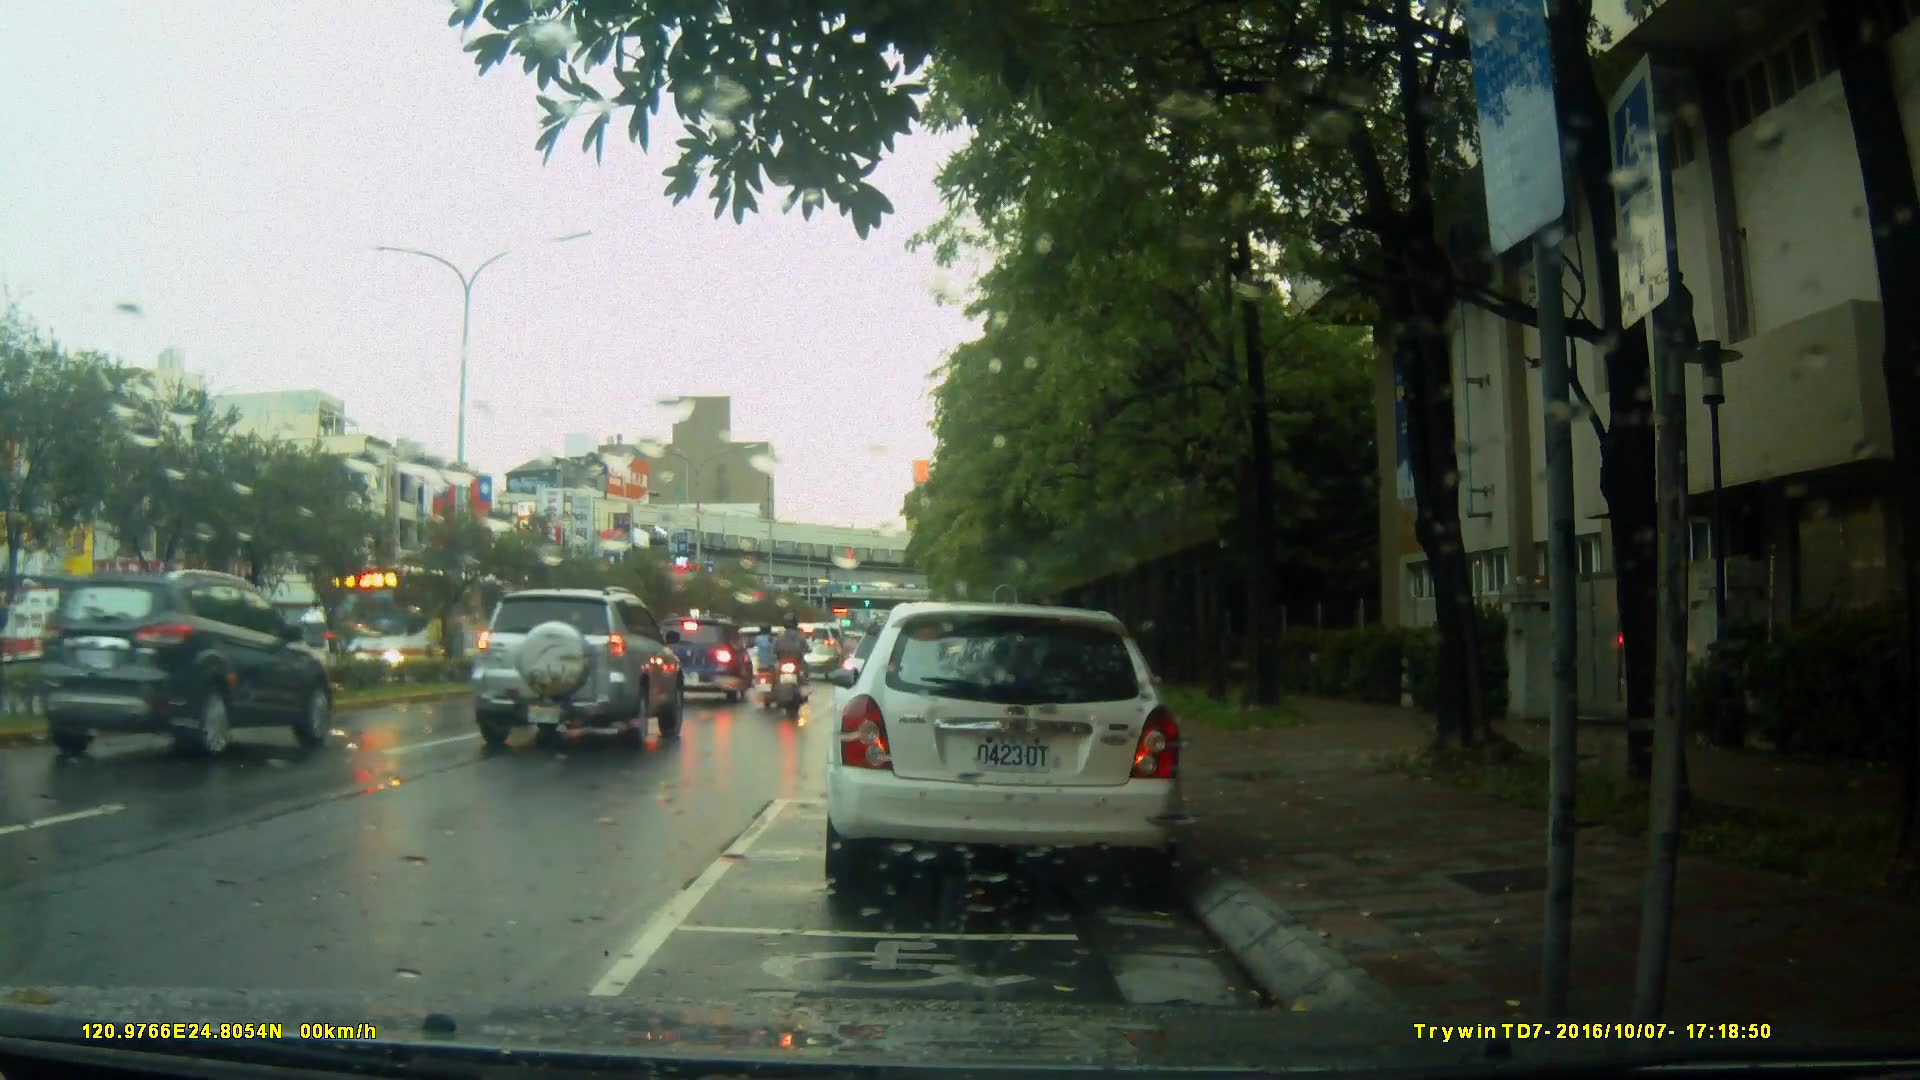rider: (770, 609, 812, 721), (755, 619, 782, 704)
vehicle: (820, 602, 1188, 898), (14, 568, 332, 767), (469, 586, 689, 747), (646, 613, 757, 705)
